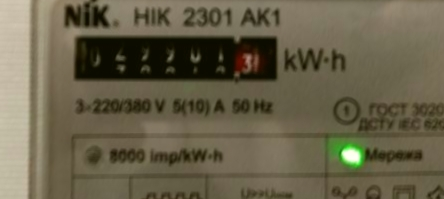0: (186, 38, 200, 63), (85, 45, 101, 66)
1: (211, 40, 224, 63)
2: (110, 42, 126, 61)
3: (238, 51, 251, 73)
9: (161, 40, 175, 62), (136, 40, 148, 62)
screen: (58, 25, 286, 90)
